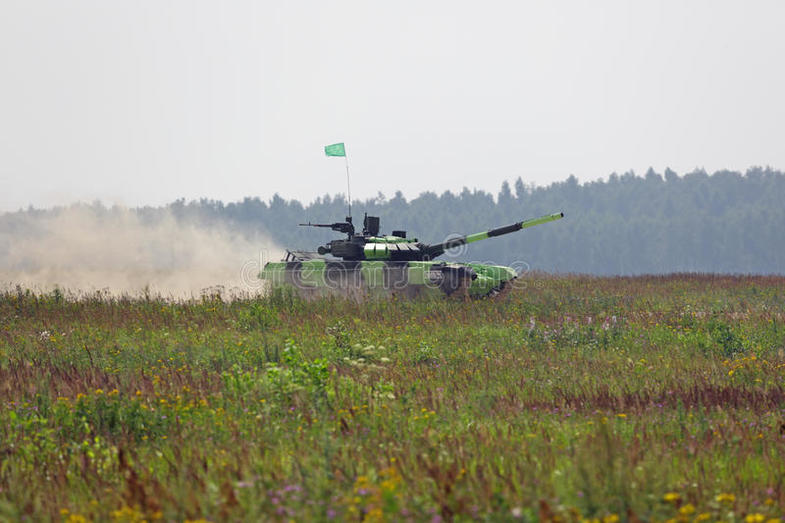t72: (263, 209, 556, 290)
